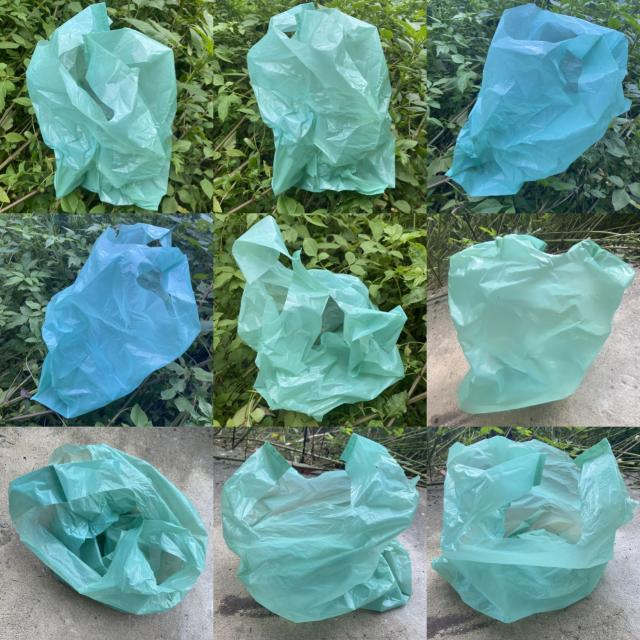Single-layer Plastic: (432, 438, 638, 622), (221, 435, 419, 622), (232, 216, 406, 420), (446, 5, 630, 197), (9, 444, 208, 614), (448, 234, 635, 414), (32, 222, 201, 418), (26, 4, 176, 210), (248, 2, 395, 195)
